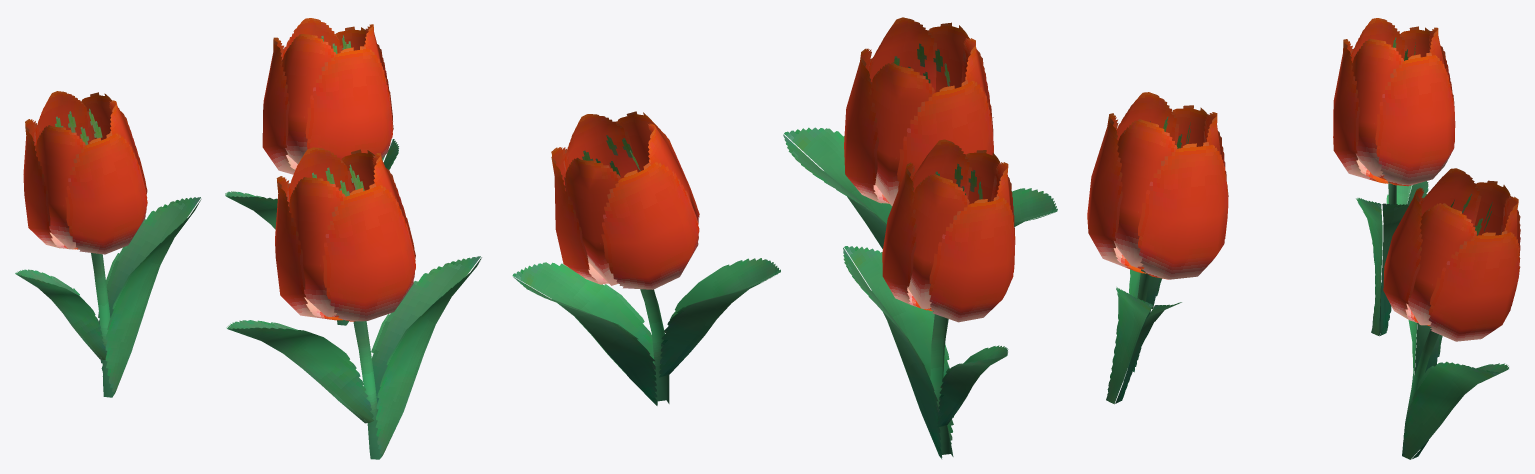
The model's file is red-tulips.glb.
3 renders of one model, left to right at view 1: azimuth 30°, elevation 25°; view 2: azimuth 150°, elevation 25°; view 3: azimuth 270°, elevation 25°, orthographic. The views are drawn at different scales.
Size of the model in its own units: 9.86 by 6.64 by 8.68.
Materials: 2 (2 with a texture image).
